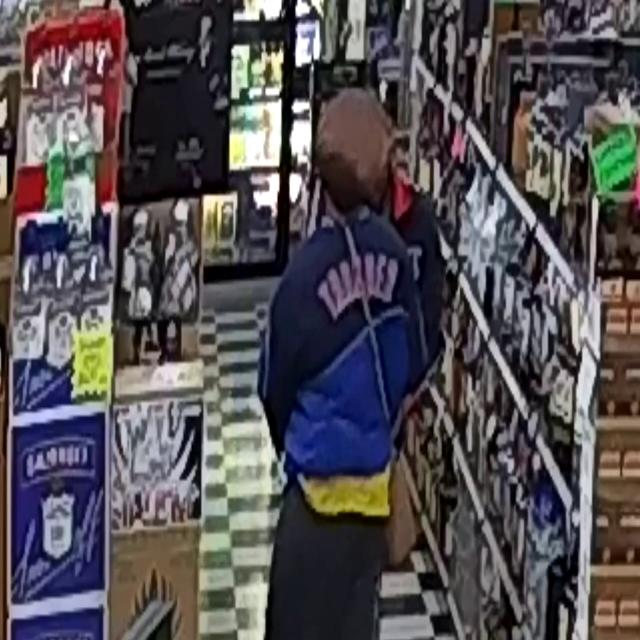normal: (251, 73, 420, 640), (387, 103, 444, 331)
